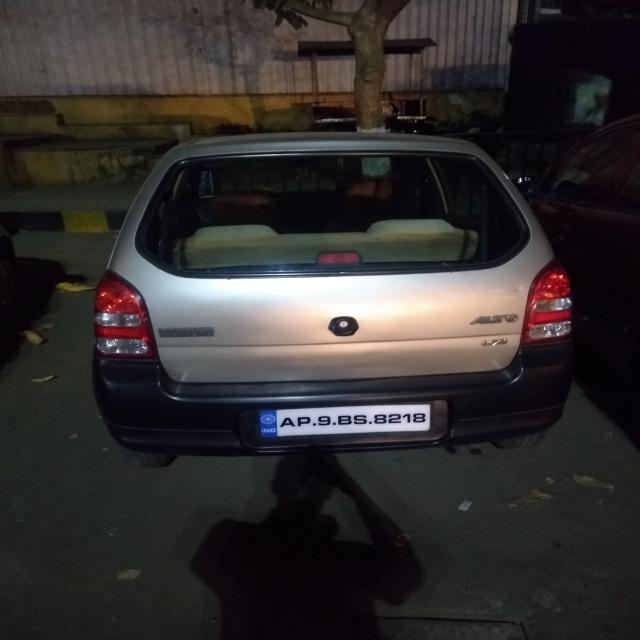Number-Plate: (264, 404, 430, 436)
